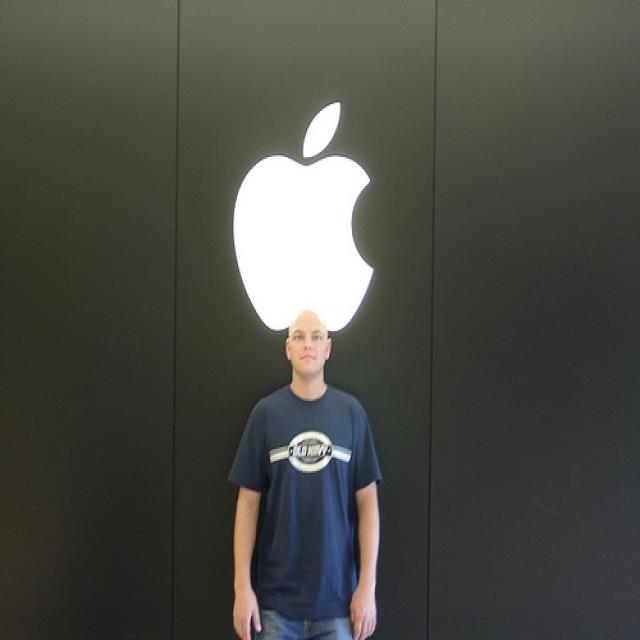apple: (226, 95, 384, 341)
